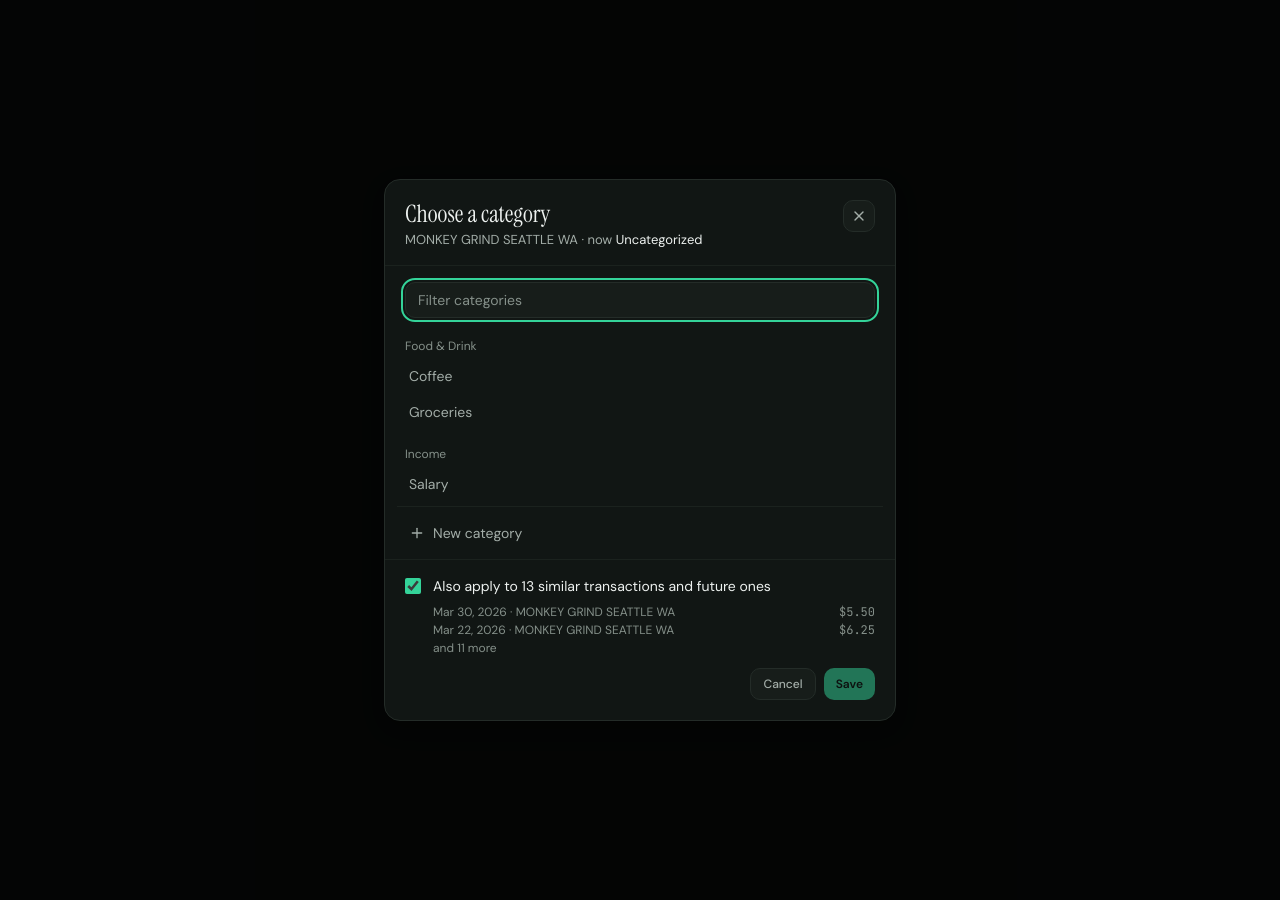
Scenario: CategoryPicker › keeps Save disabled for an invalid new name
Expected: the radio button labelled "Coffee" is shown, [397,358,883,394]
Step 1. Click the button "New category" → (478, 533), box [397,515,883,551]
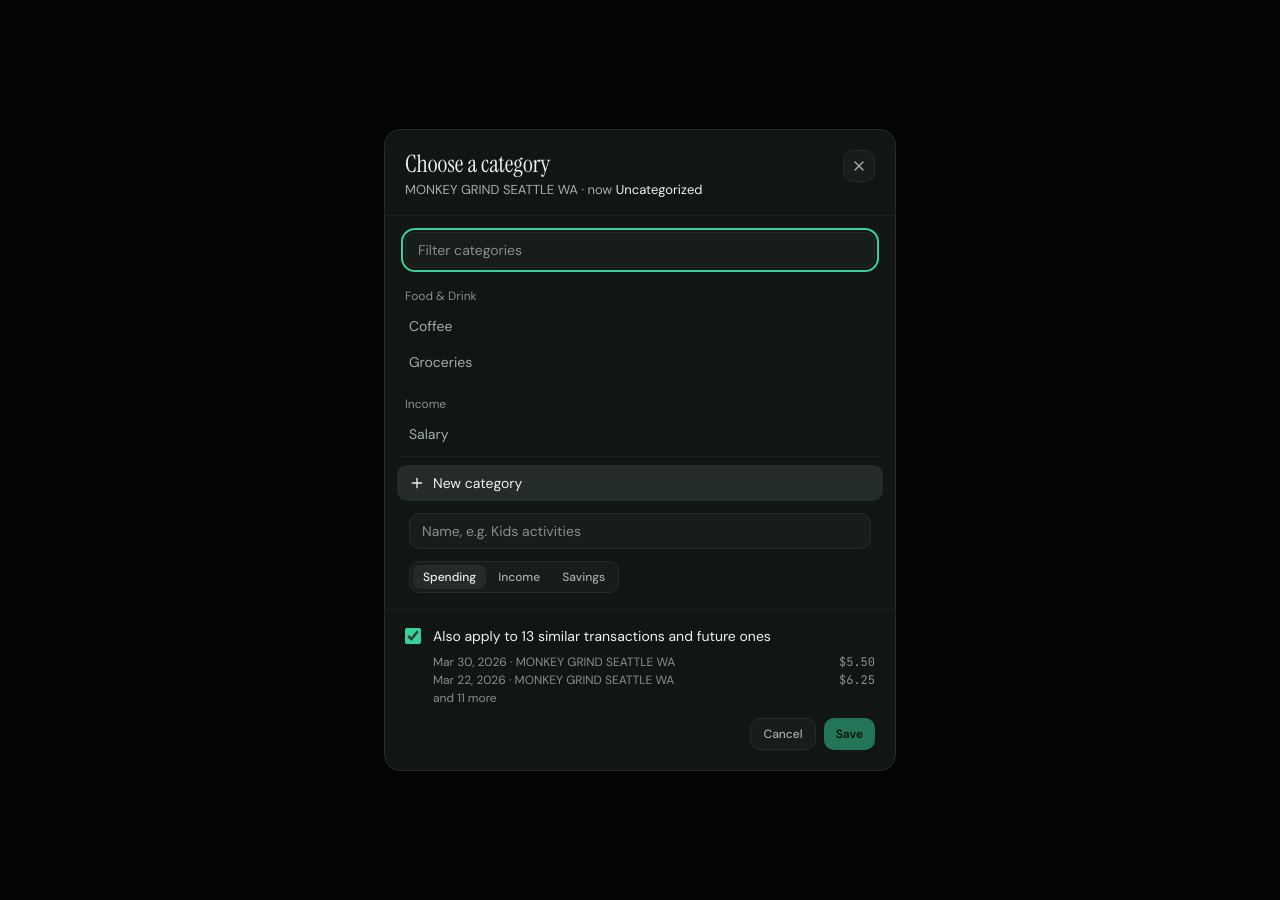
Step 2. Type "Kids' stuff" into the field named "New category name" → (640, 531), box [409,513,871,549]
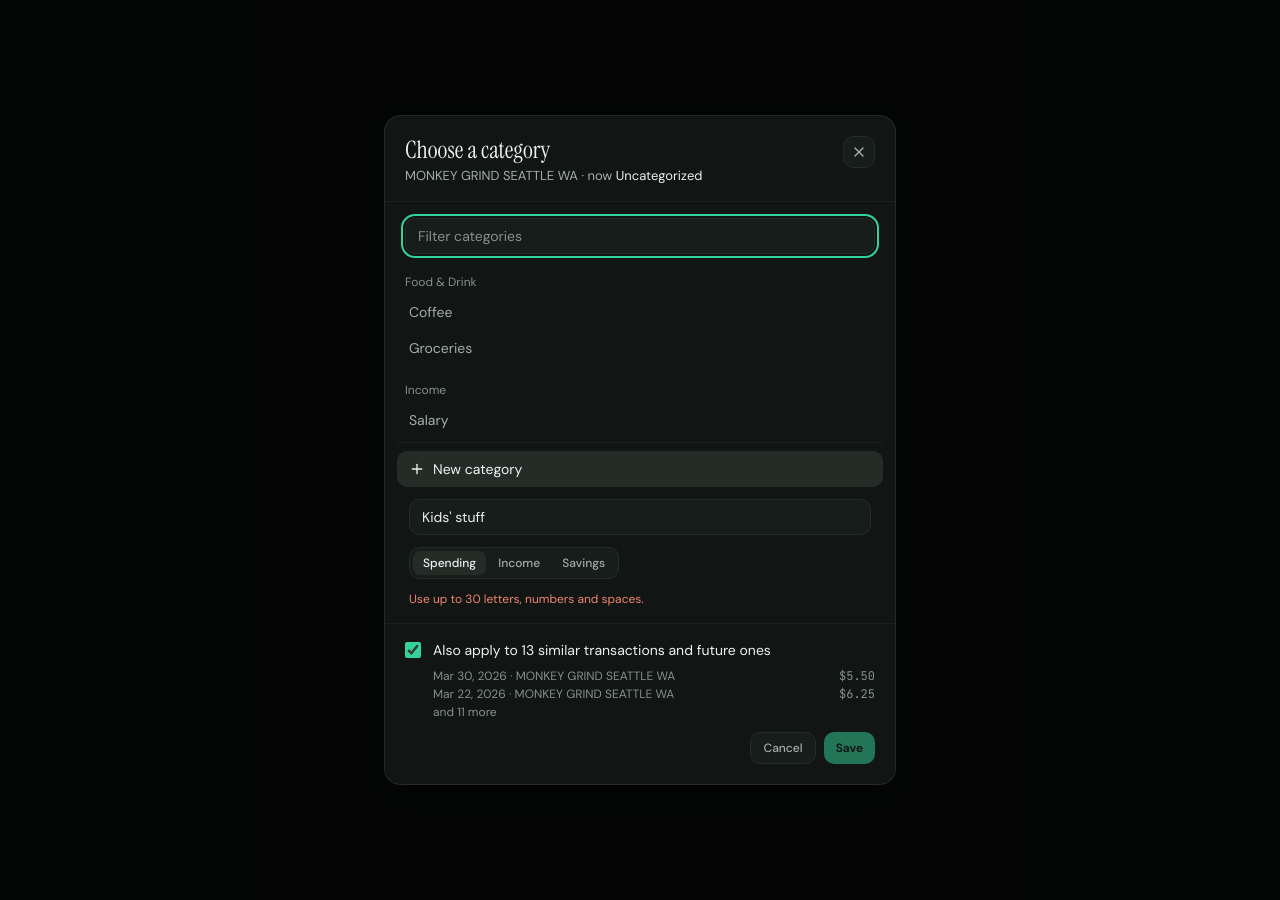
Expected: the button "Save" is disabled, [824,732,875,764]
Now the text "Use up to 30 letters, numbers and spaces." is shown, box [409,591,644,607]
